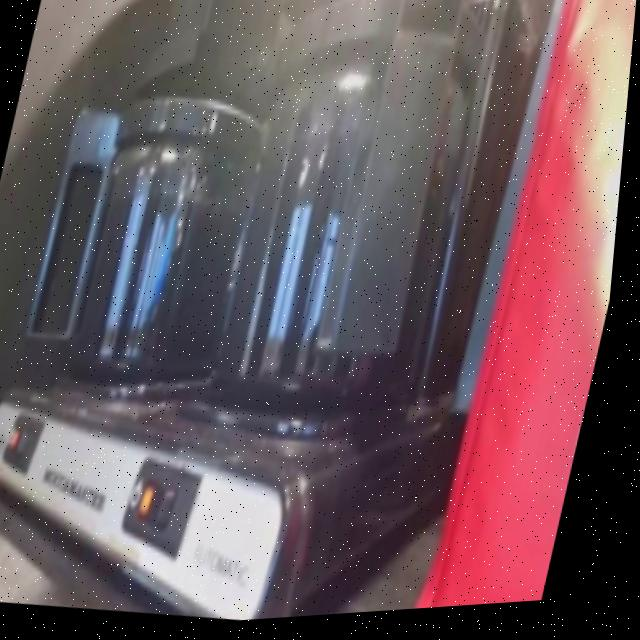coffee: (221, 103, 465, 416), (68, 157, 260, 391)
